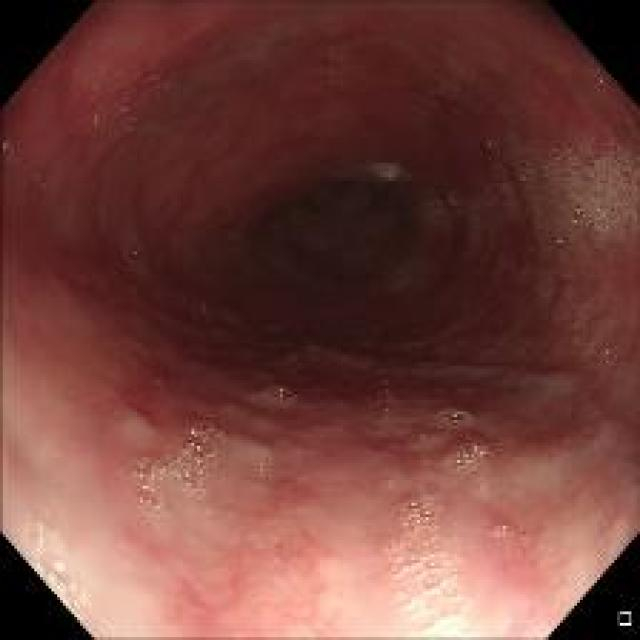bubbles: (512, 128, 629, 334), (381, 498, 469, 630), (139, 418, 230, 516), (416, 400, 486, 478), (598, 345, 630, 375), (262, 381, 300, 401), (482, 520, 512, 539), (124, 238, 146, 261), (254, 460, 270, 475), (228, 402, 240, 414)
contrast: (202, 141, 485, 349)
saturation: (395, 574, 520, 636)
specularity: (22, 520, 81, 611)
